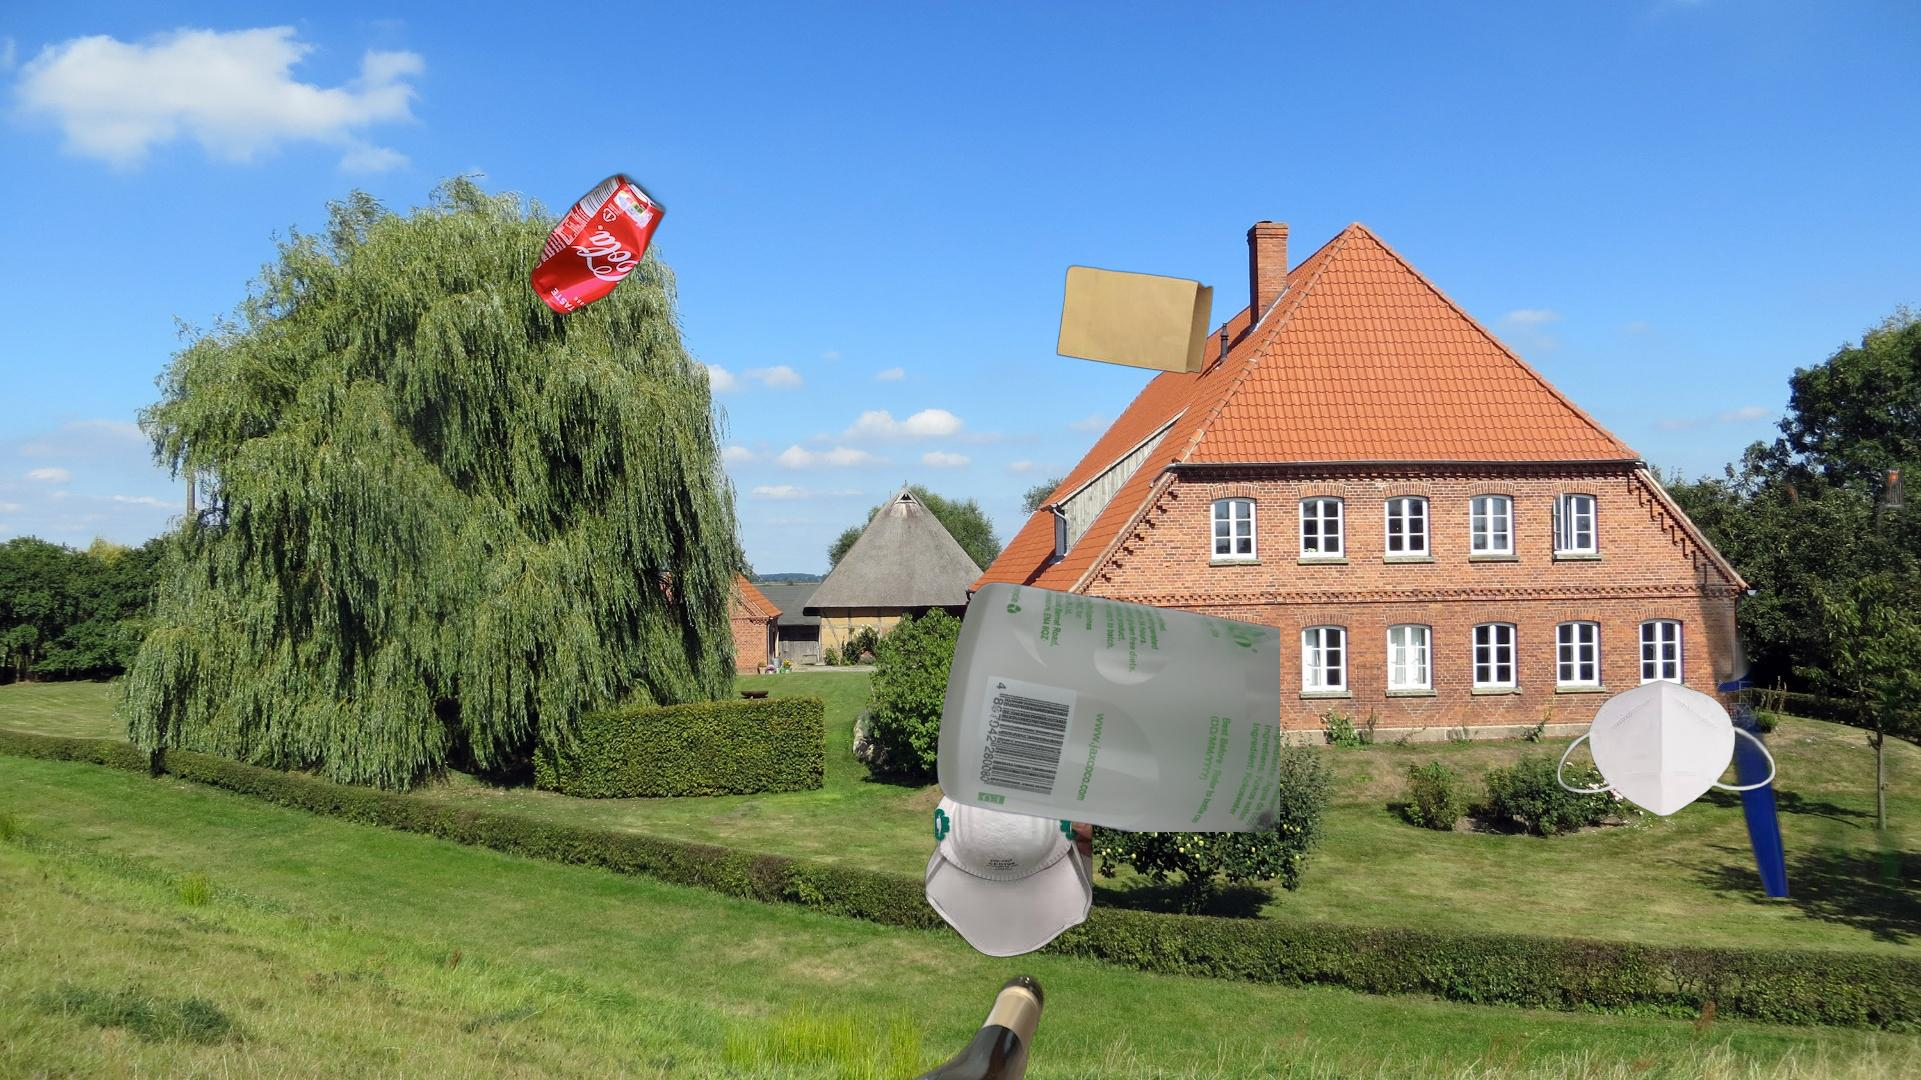clothes: (336, 1072, 738, 1080)
glass: (931, 580, 1280, 832), (716, 968, 1049, 1080)
metal-cans: (525, 169, 672, 320)
paper-bag: (1055, 262, 1216, 375)
penholder: (1608, 455, 1921, 897)
trash: (922, 756, 1121, 967), (1554, 678, 1779, 819)
